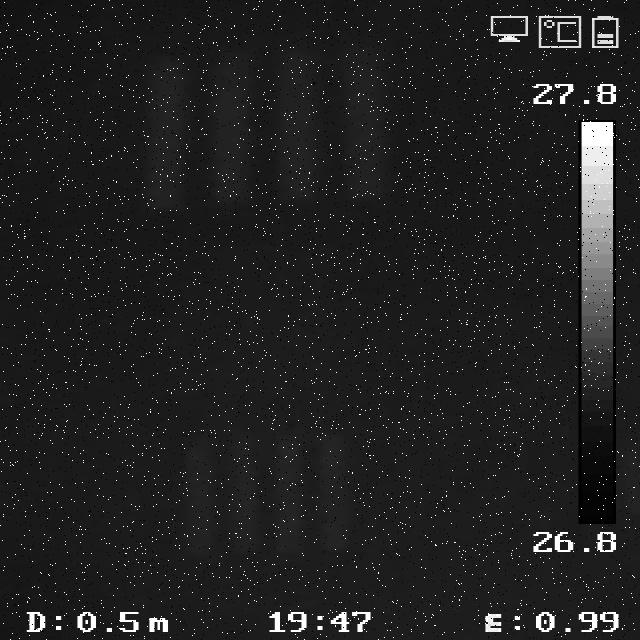Distinguishable 4-bar target: (129, 49, 400, 200)
threshold 4-bar target: (180, 440, 360, 554)
